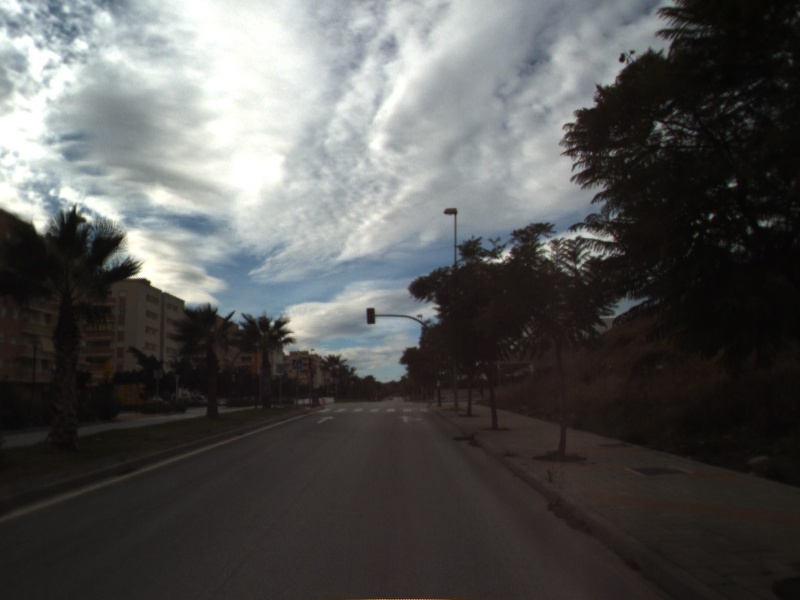STRAIGHT: (316, 413, 337, 425)
STRAIGHT_RIGHT: (395, 413, 426, 425)
